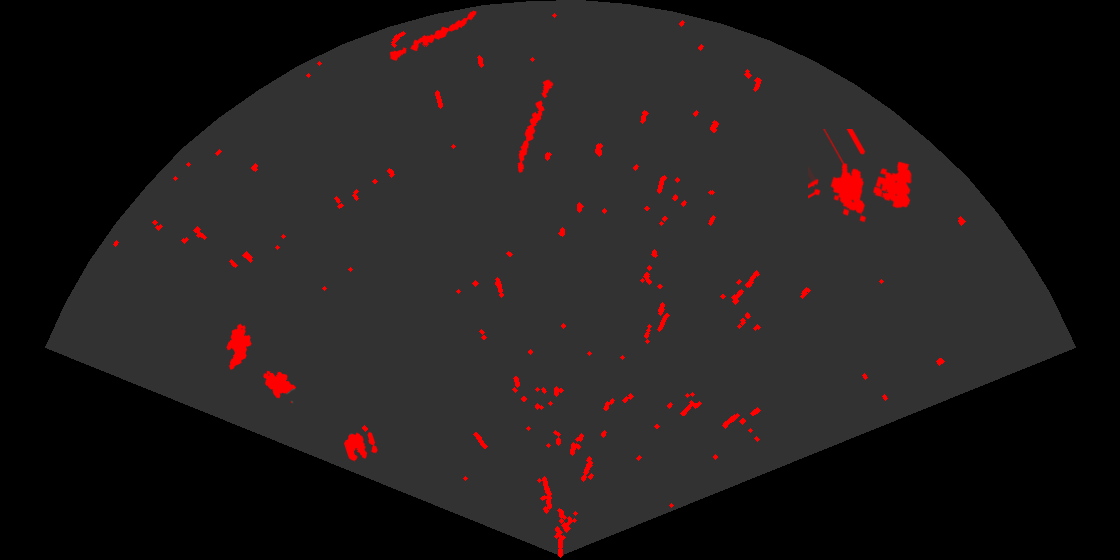AUV: (225, 322, 253, 371), (262, 369, 298, 405)
ball: (342, 430, 379, 463)
cage: (808, 129, 914, 224)
chain: (388, 9, 478, 62), (516, 78, 555, 174)
